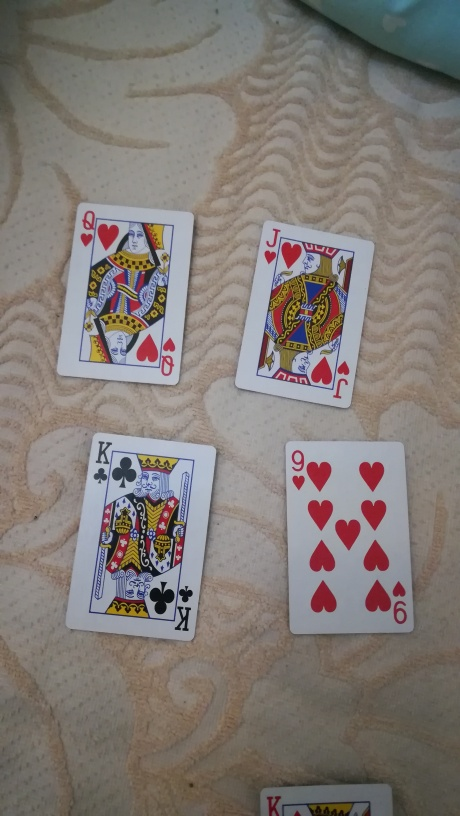hx 9: (281, 440, 422, 646)
hx j: (243, 218, 373, 413)
hx q: (51, 198, 195, 392)
mh k: (63, 430, 225, 650)
